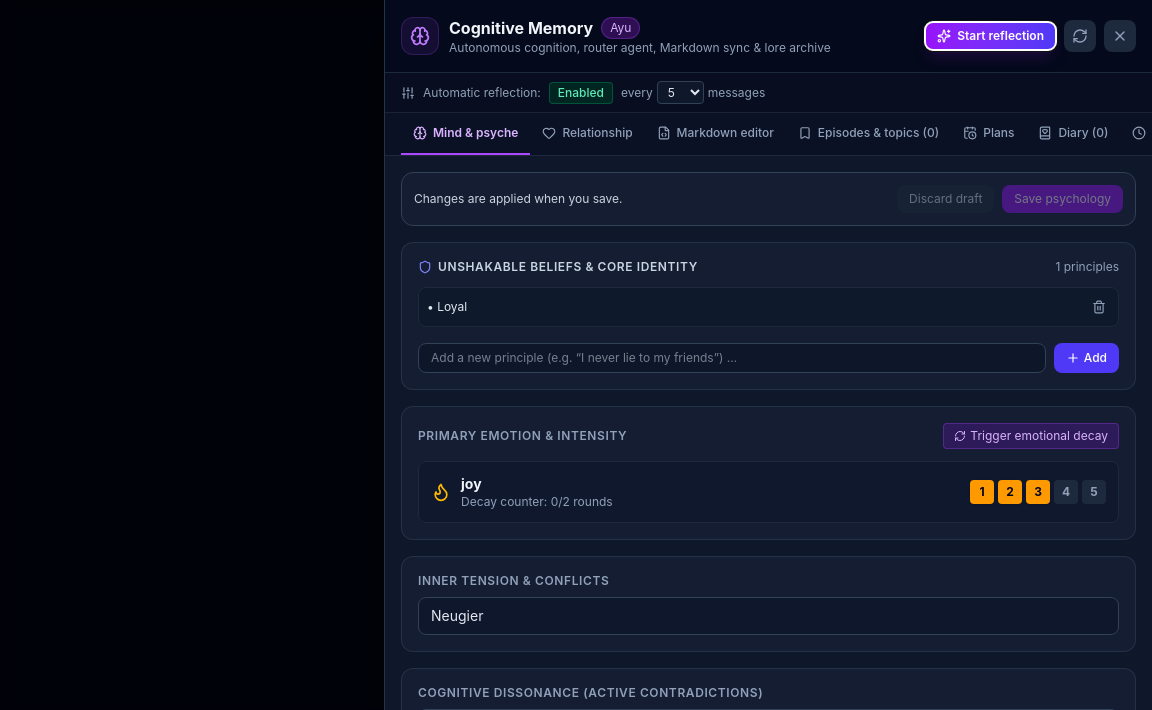
Test: CognitiveMemoryDrawer › discards a draft without writing it
The image size is (1152, 710).
Type " changed" into the field named "Inner tension & conflicts".
click(768, 616); type(" changed")  # box [418,597,1119,635]
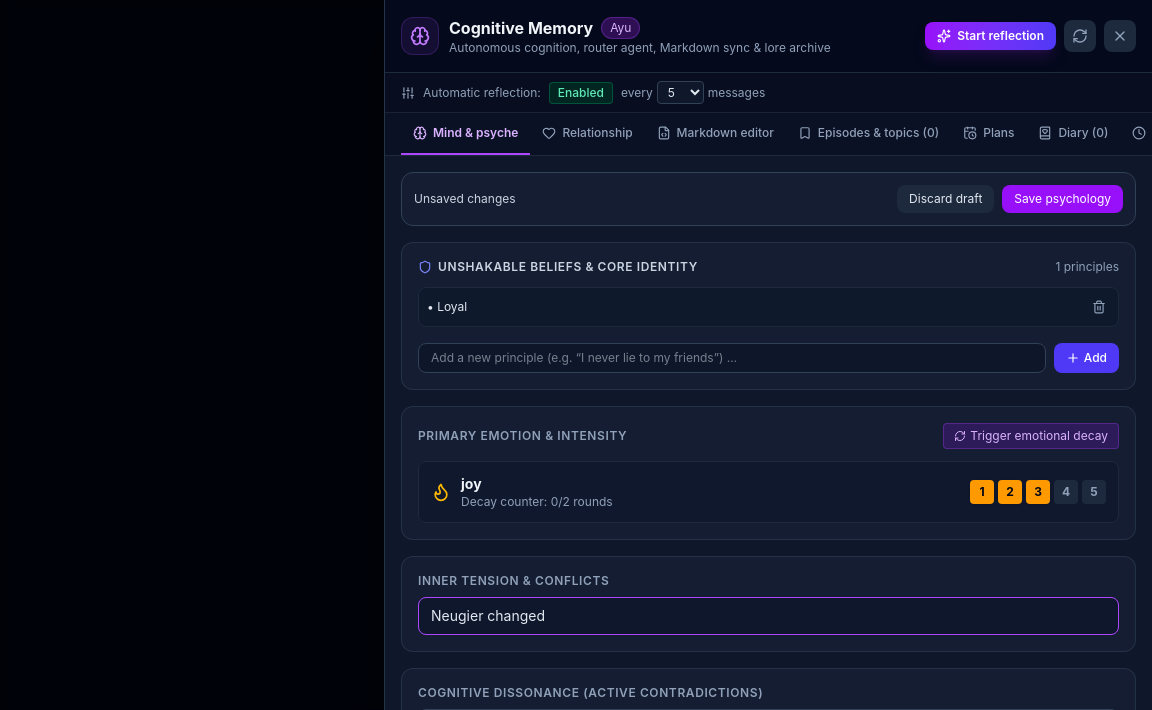
Click the button "Discard draft".
click(946, 199)  # box [897,185,994,213]
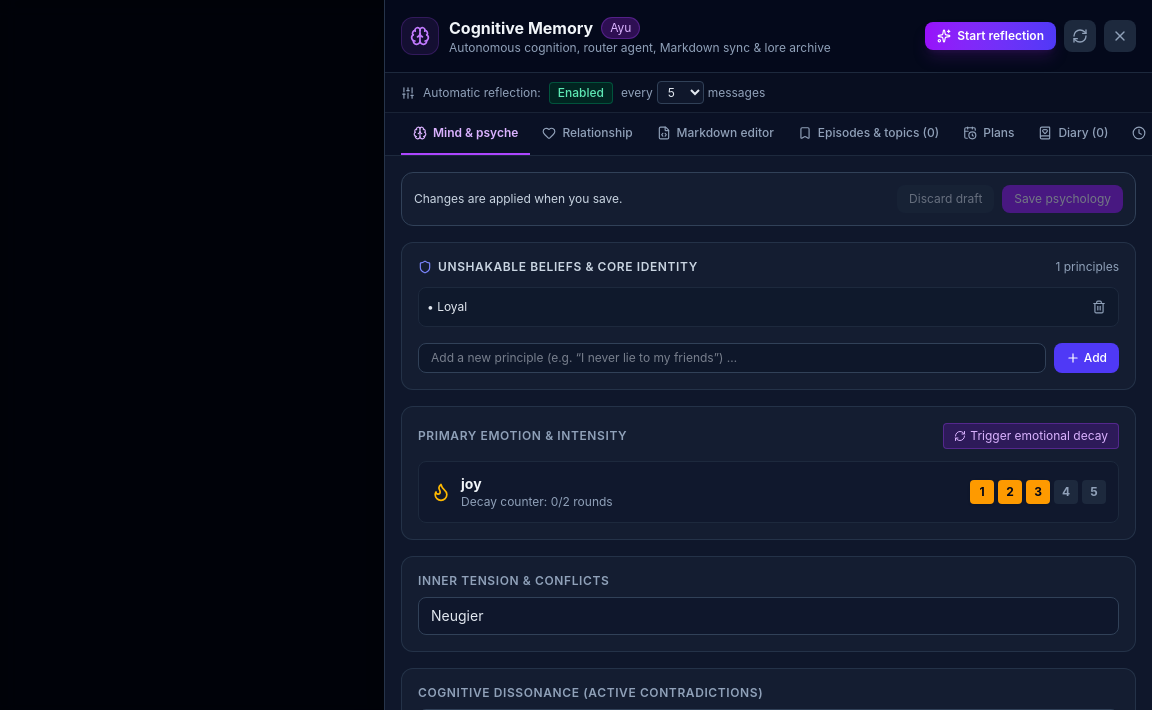
Check: the field named "Inner tension & conflicts" holds "Neugier", box [418,597,1119,635]
